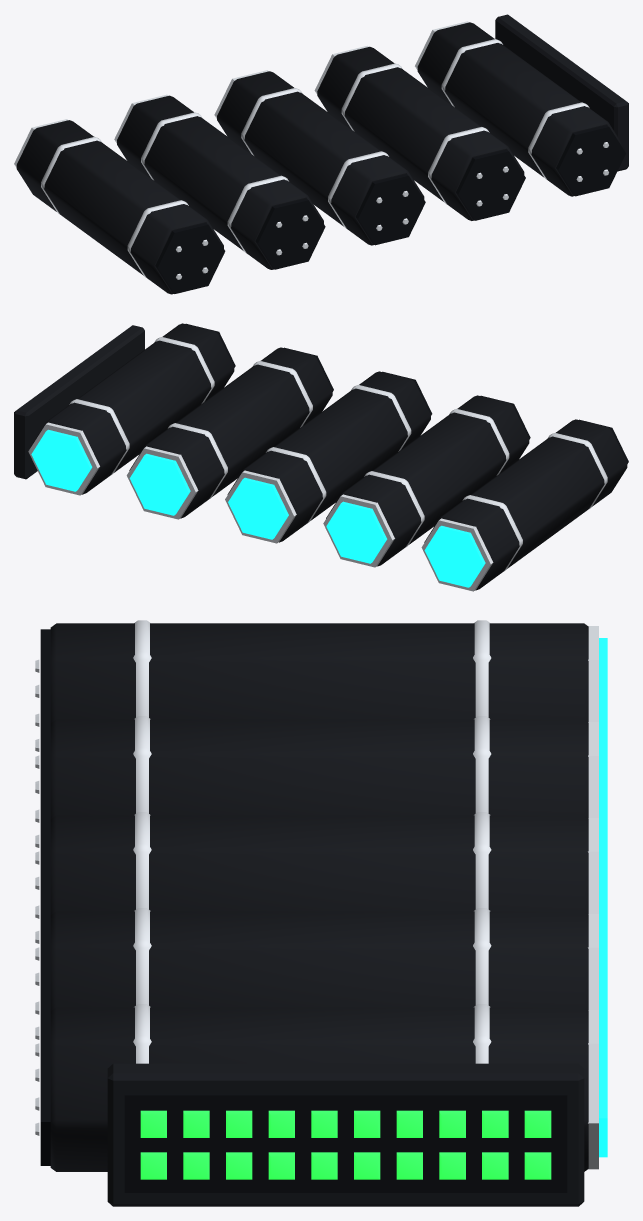
Rendered from deck_pods_five.glb.
3 views of the same model, one above another, from view 1: azimuth 30°, elevation 25°; view 2: azimuth 150°, elevation 25°; view 3: azimuth 270°, elevation 25° (orthographic). The views are drawn at different scales.
Visible parts, largest first — view 1: deck_pods_five_POD0, deck_pods_five_POD2, deck_pods_five_POD3, deck_pods_five_POD1, deck_pods_five_POD4, deck_pods_five_POD5; view 2: deck_pods_five_POD0, deck_pods_five_POD3, deck_pods_five_POD1, deck_pods_five_POD4, deck_pods_five_POD2, deck_pods_five_POD5; view 3: deck_pods_five_POD5, deck_pods_five_POD3, deck_pods_five_POD0, deck_pods_five_POD1, deck_pods_five_POD2, deck_pods_five_POD4.
Boxes of the visible parts, x1=… form: deck_pods_five_POD0: x1=14, y1=119, x2=225, y2=294; deck_pods_five_POD2: x1=214, y1=70, x2=425, y2=245; deck_pods_five_POD3: x1=314, y1=45, x2=525, y2=220; deck_pods_five_POD1: x1=114, y1=94, x2=325, y2=269; deck_pods_five_POD4: x1=415, y1=21, x2=625, y2=196; deck_pods_five_POD5: x1=495, y1=14, x2=628, y2=171; deck_pods_five_POD0: x1=421, y1=419, x2=628, y2=591; deck_pods_five_POD3: x1=126, y1=347, x2=333, y2=519; deck_pods_five_POD1: x1=323, y1=395, x2=530, y2=567; deck_pods_five_POD4: x1=28, y1=323, x2=235, y2=495; deck_pods_five_POD2: x1=225, y1=371, x2=432, y2=543; deck_pods_five_POD5: x1=14, y1=325, x2=144, y2=479; deck_pods_five_POD5: x1=107, y1=1063, x2=584, y2=1206; deck_pods_five_POD3: x1=35, y1=908, x2=607, y2=1039; deck_pods_five_POD0: x1=35, y1=620, x2=607, y2=751; deck_pods_five_POD1: x1=35, y1=716, x2=607, y2=847; deck_pods_five_POD2: x1=35, y1=812, x2=607, y2=943; deck_pods_five_POD4: x1=35, y1=1004, x2=607, y2=1171.
Size of the model in its own units: 1.99 by 0.2654 by 1.01.
